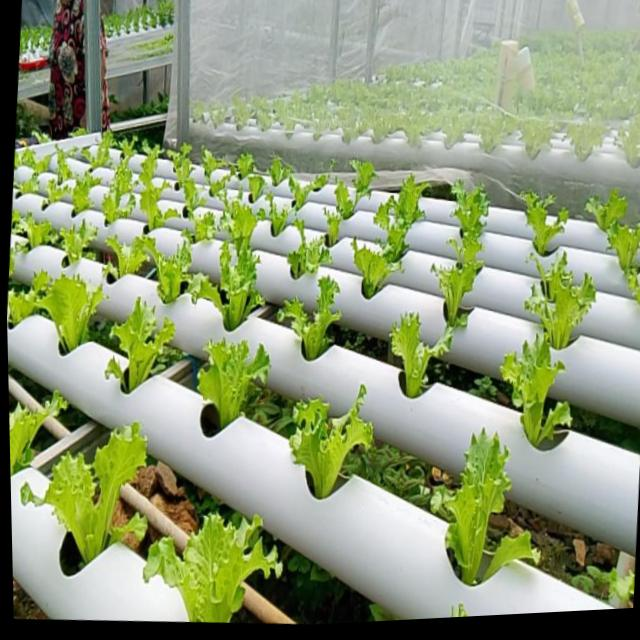Baby: (19, 419, 144, 559), (140, 511, 279, 620), (429, 429, 506, 586), (286, 385, 370, 499), (429, 183, 486, 336), (496, 336, 567, 449), (194, 339, 268, 437), (522, 254, 592, 352), (107, 297, 172, 393), (36, 269, 105, 351), (275, 277, 338, 361), (388, 314, 450, 399), (372, 176, 427, 263), (132, 234, 199, 304), (274, 220, 329, 280), (99, 140, 137, 224), (349, 240, 400, 300), (518, 193, 565, 258), (216, 193, 263, 256), (601, 220, 640, 293), (80, 130, 112, 167), (70, 170, 97, 212), (206, 169, 229, 201), (191, 211, 214, 242), (54, 145, 71, 183)
